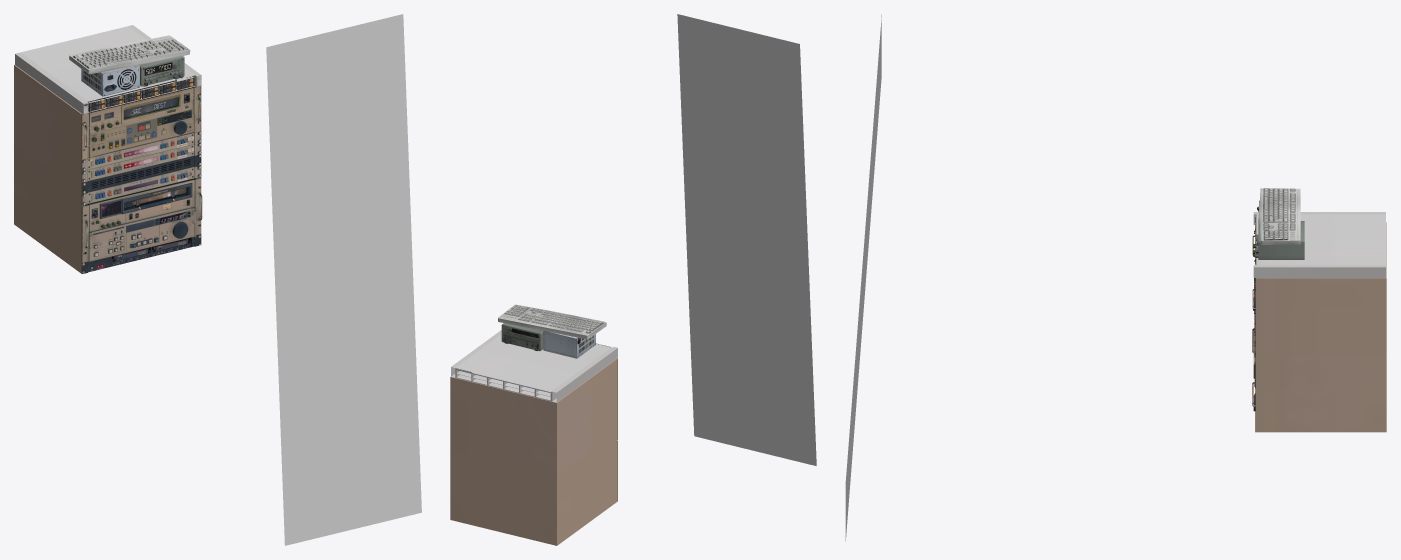
File: Server.fbx
3 views of the same model, side by side, from view 1: azimuth 30°, elevation 25°; view 2: azimuth 150°, elevation 25°; view 3: azimuth 270°, elevation 25° (orthographic). The views are drawn at different scales.
Parts seen in each view (by area): view 1: camera-back-light-reflector, audio-panel, server-rack, keyboard, psu, radio-panel; view 2: camera-back-light-reflector, audio-panel, server-rack, keyboard, psu, radio-panel; view 3: audio-panel, server-rack, camera-back-light-reflector, keyboard, radio-panel.
Part boxes in pixels (left/top/right/bottom): camera-back-light-reflector: left=266, top=14, right=421, bottom=545; audio-panel: left=14, top=64, right=202, bottom=273; server-rack: left=15, top=25, right=201, bottom=114; keyboard: left=69, top=35, right=190, bottom=74; psu: left=81, top=65, right=139, bottom=96; radio-panel: left=140, top=56, right=184, bottom=86; camera-back-light-reflector: left=677, top=14, right=816, bottom=465; audio-panel: left=450, top=358, right=617, bottom=545; server-rack: left=451, top=330, right=617, bottom=402; keyboard: left=498, top=304, right=606, bottom=339; psu: left=543, top=331, right=595, bottom=358; radio-panel: left=501, top=323, right=543, bottom=350; audio-panel: left=1252, top=222, right=1386, bottom=432; server-rack: left=1253, top=212, right=1385, bottom=277; camera-back-light-reflector: left=845, top=14, right=881, bottom=541; keyboard: left=1259, top=188, right=1300, bottom=244; radio-panel: left=1255, top=221, right=1304, bottom=259.
Size of the model in its own units: 22.69 by 6.4 by 21.64.
